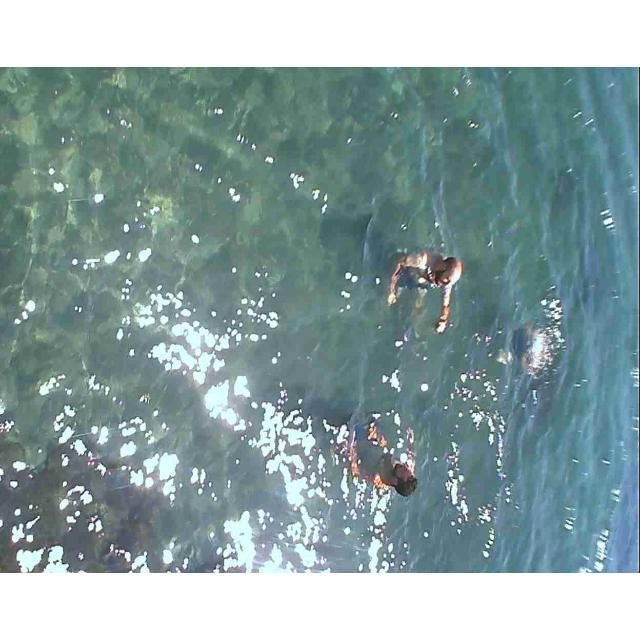human: (388, 240, 459, 337), (345, 423, 423, 504)
